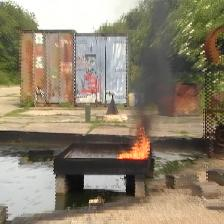fire: (118, 120, 151, 159)
